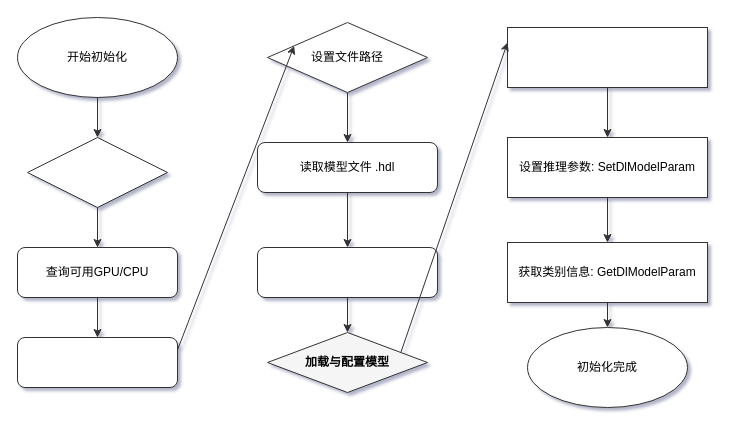
Some shapes in this 731 by 431 pixel diagram are drawn without their labels. The centre of each missing label's shape, as x and y in pixels:
加载模型句柄: ReadDlModel: point (607, 57)
设备检测: point (97, 172)
读取预处理参数 .hdict: point (347, 272)
选择最优设备: point (97, 362)
